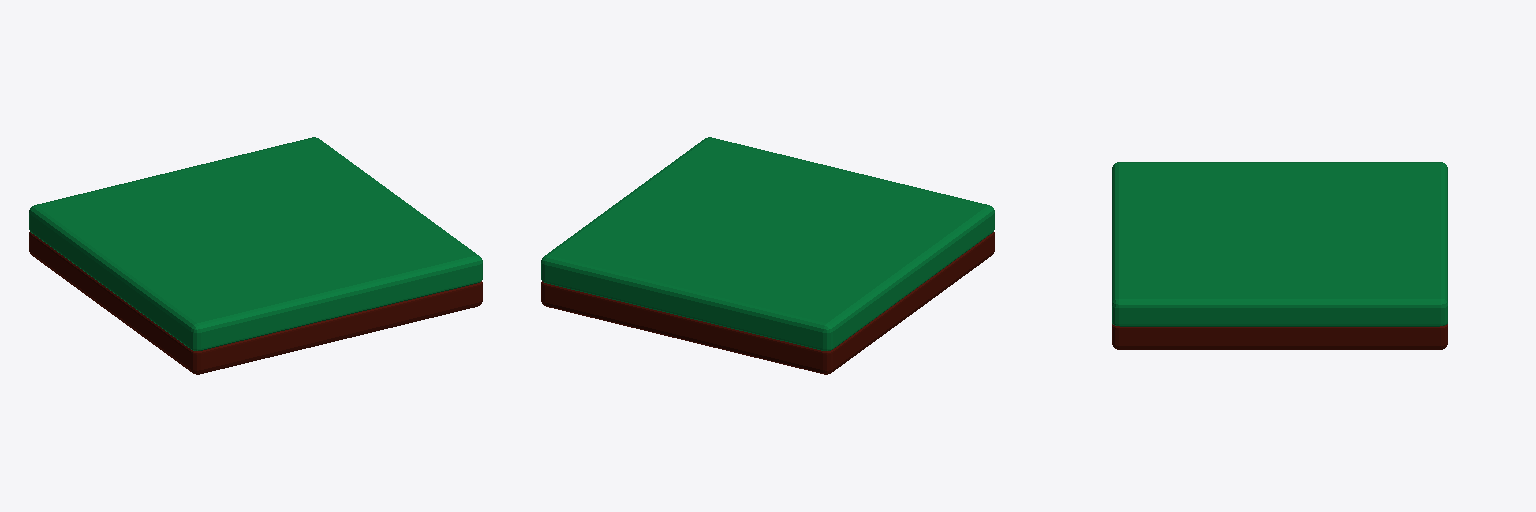
The model's file is tileLarge_forest.obj.
3 renders of one model, left to right at view 1: azimuth 30°, elevation 25°; view 2: azimuth 150°, elevation 25°; view 3: azimuth 270°, elevation 25°, orthographic.
Visible parts, largest first — view 1: tileLarge_forest_Cube.712; view 2: tileLarge_forest_Cube.712; view 3: tileLarge_forest_Cube.712.
Boxes of the visible parts, box(x1,y1,x2,y2) form: tileLarge_forest_Cube.712: box(29, 137, 482, 374); tileLarge_forest_Cube.712: box(541, 137, 994, 374); tileLarge_forest_Cube.712: box(1112, 162, 1447, 349).
Bounding box in the file's own units: 6 × 1 × 6.